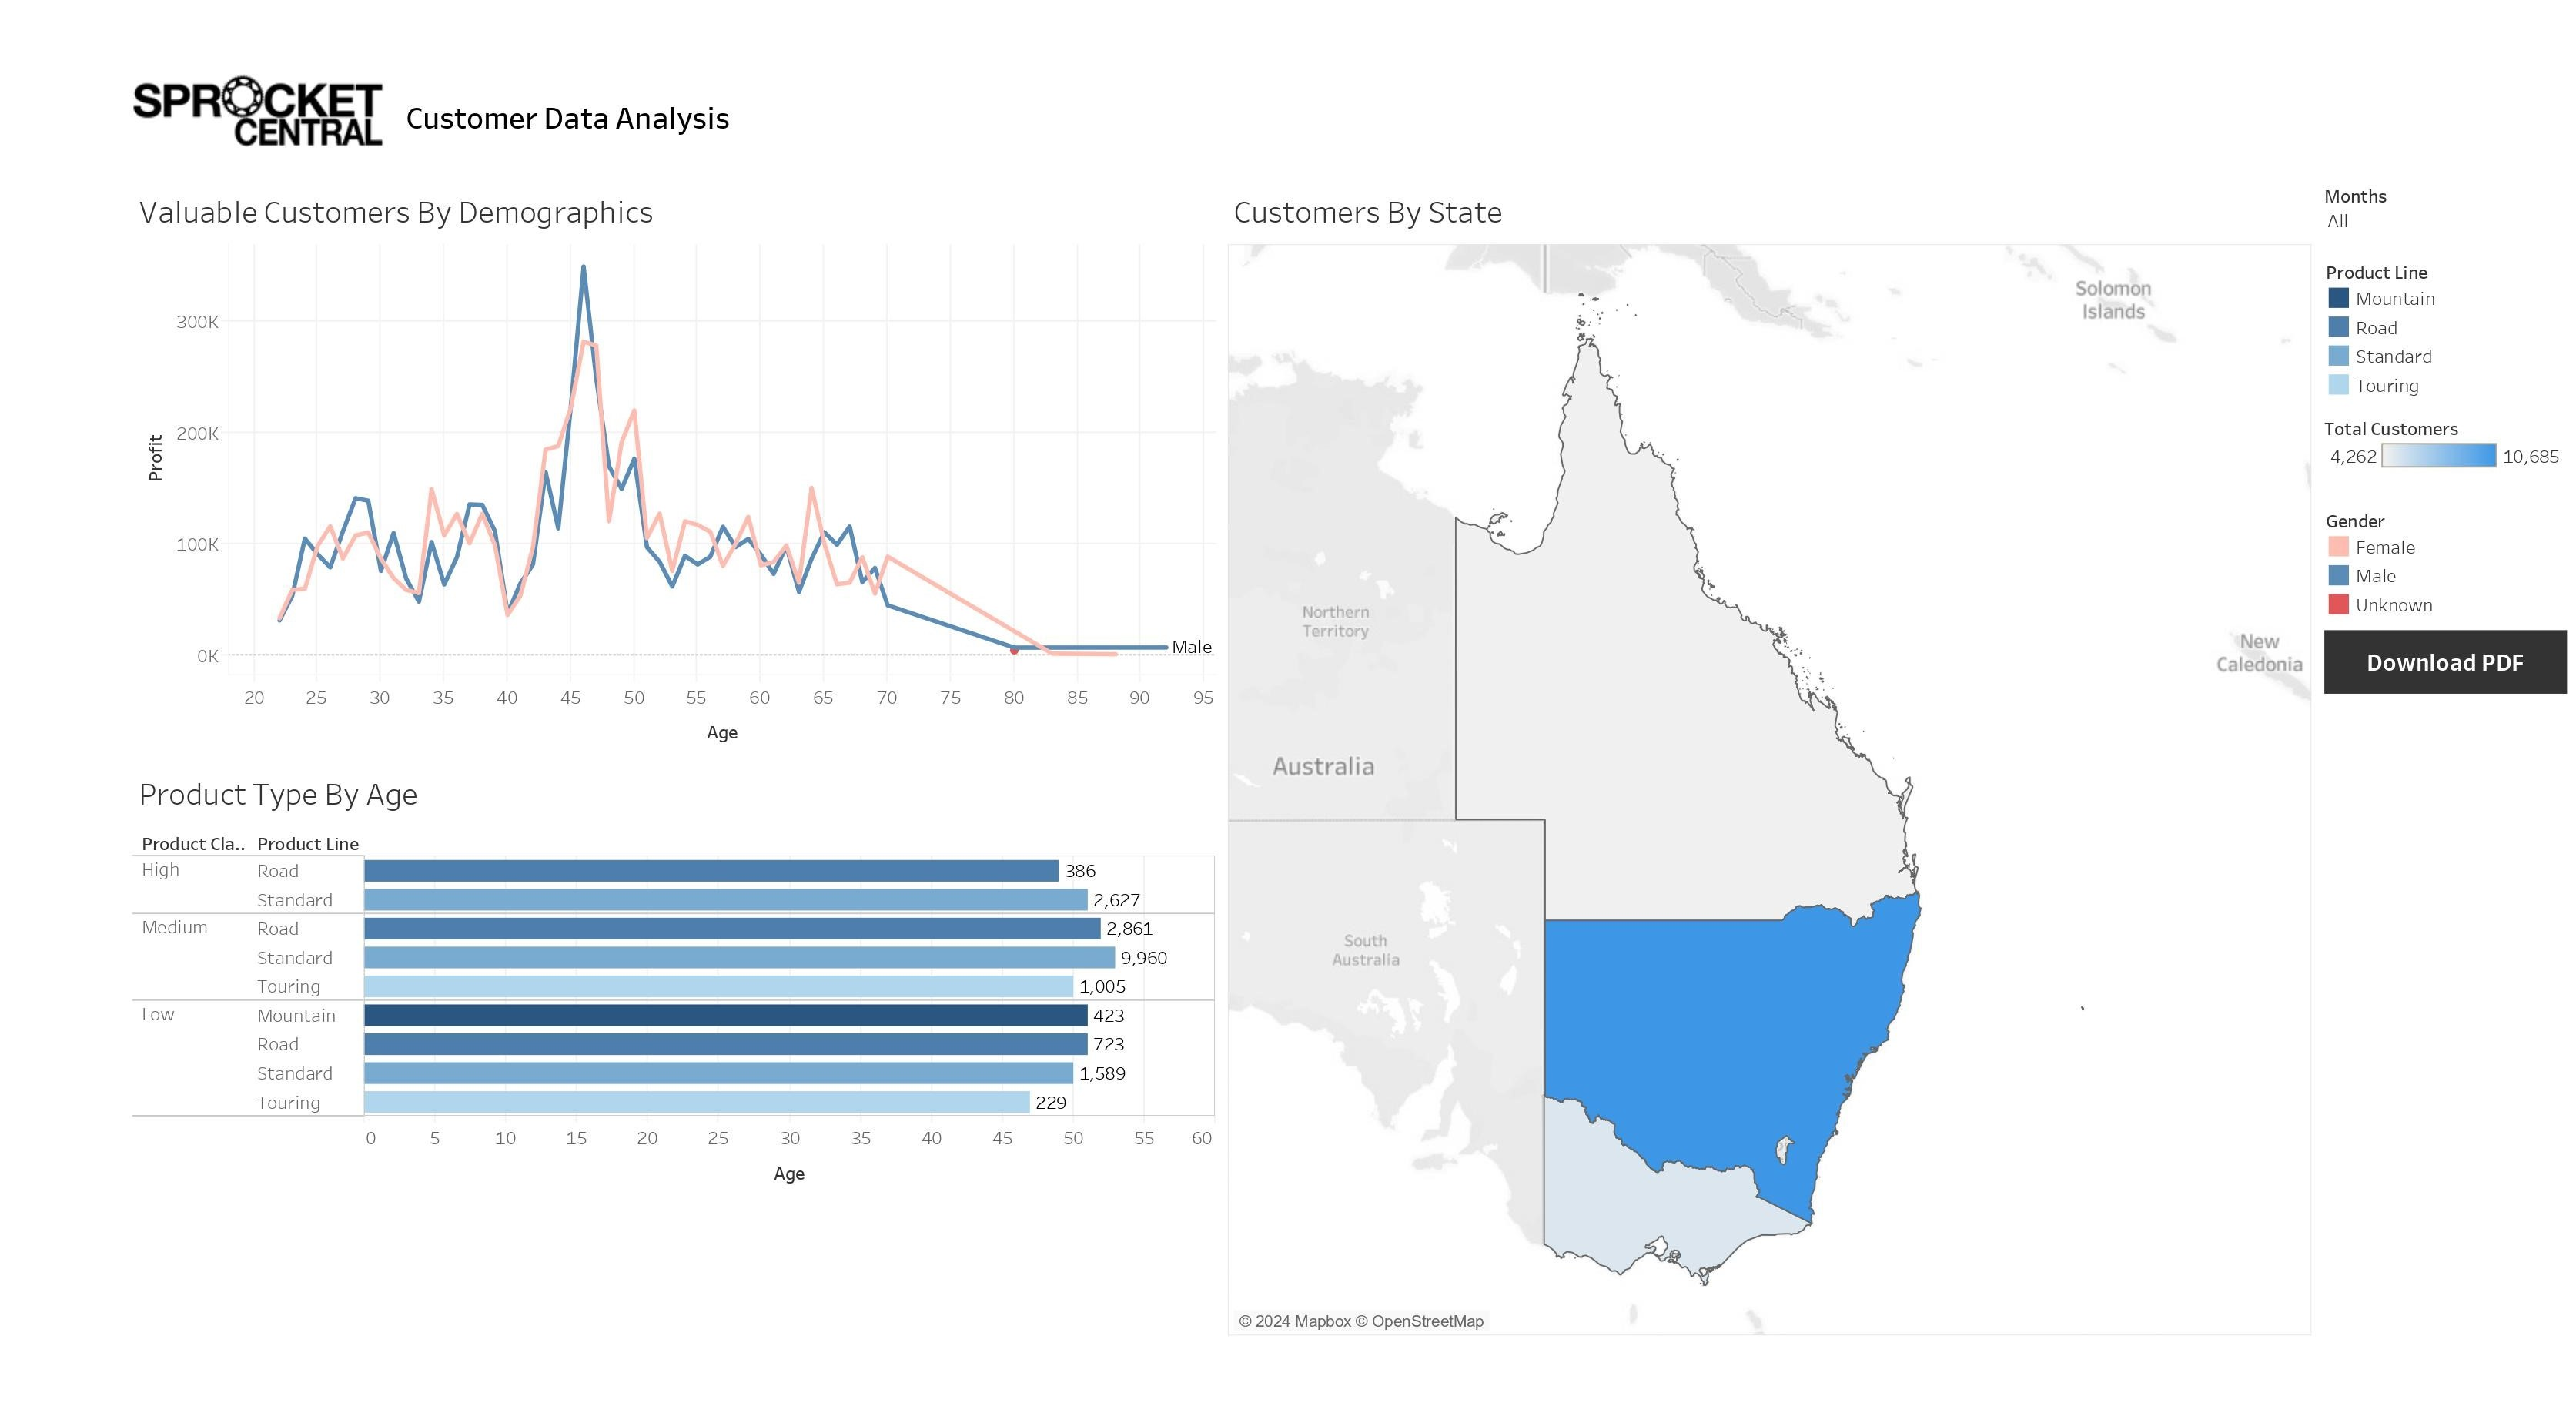

The dashboard page shown, as its layout file describes it:
{"tool":"tableau","page":{"name":"Dashboard","canvas":[1000,1000],"units":"permille","ordinal":0},"visuals":[{"type":"image","param":"D:/Work/KPMG AU/Virtual Work Experience - Data Analyst/Task Three/Resources/spro","box":[4.7,8.8,108.8,89.6]},{"type":"text","box":[113.5,8.8,881.8,89.6]},{"type":"worksheet","title":"Valuable Customers By Demographics","mark":"Automatic","rows":["Profit"],"cols":["Age"],"box":[4.7,98.5,443.8,446.4]},{"type":"worksheet","title":"Customers By State","mark":"Automatic","box":[448.5,98.5,443.8,892.7]},{"type":"filter","title":"Customers By State","param":"[federated.01ah5200lf67op14b81jm0y2sxiu].[mn:transaction_date:ok]","box":[892.3,98.5,103,57.5]},{"type":"legend","title":"Product Type By Age","param":"[federated.01ah5200lf67op14b81jm0y2sxiu].[none:product_line:nk]","box":[892.3,156,103,117.3]},{"type":"legend","title":"Customers By State","param":"[federated.01ah5200lf67op14b81jm0y2sxiu].[cnt:customer_id:qk]","box":[892.3,273.2,103,71.9]},{"type":"legend","title":"Valuable Customers By Demographics","param":"[federated.01ah5200lf67op14b81jm0y2sxiu].[none:gender:nk]","box":[892.3,345.1,103,95.1]},{"type":"worksheet","title":"Product Type By Age","mark":"Automatic","rows":["product_class","product_line"],"cols":["Age"],"box":[4.7,544.8,443.8,446.4]}]}

Visuals, with their boxes on the dashboard's canvas, which has no fixed pixel size, in thousandths of its width and height (x1, y1, x2, y2). These are canvas units, not pixel positions in the 2576x1413 screenshot, which may show the page scaled, cropped or inside an application window:
image: left=5, top=9, right=114, bottom=98
text: left=114, top=9, right=995, bottom=98
"Valuable Customers By Demographics" worksheet: left=5, top=98, right=448, bottom=545
"Customers By State" worksheet: left=448, top=98, right=892, bottom=991
"Customers By State" filter: left=892, top=98, right=995, bottom=156
"Product Type By Age" legend: left=892, top=156, right=995, bottom=273
"Customers By State" legend: left=892, top=273, right=995, bottom=345
"Valuable Customers By Demographics" legend: left=892, top=345, right=995, bottom=440
"Product Type By Age" worksheet: left=5, top=545, right=448, bottom=991
